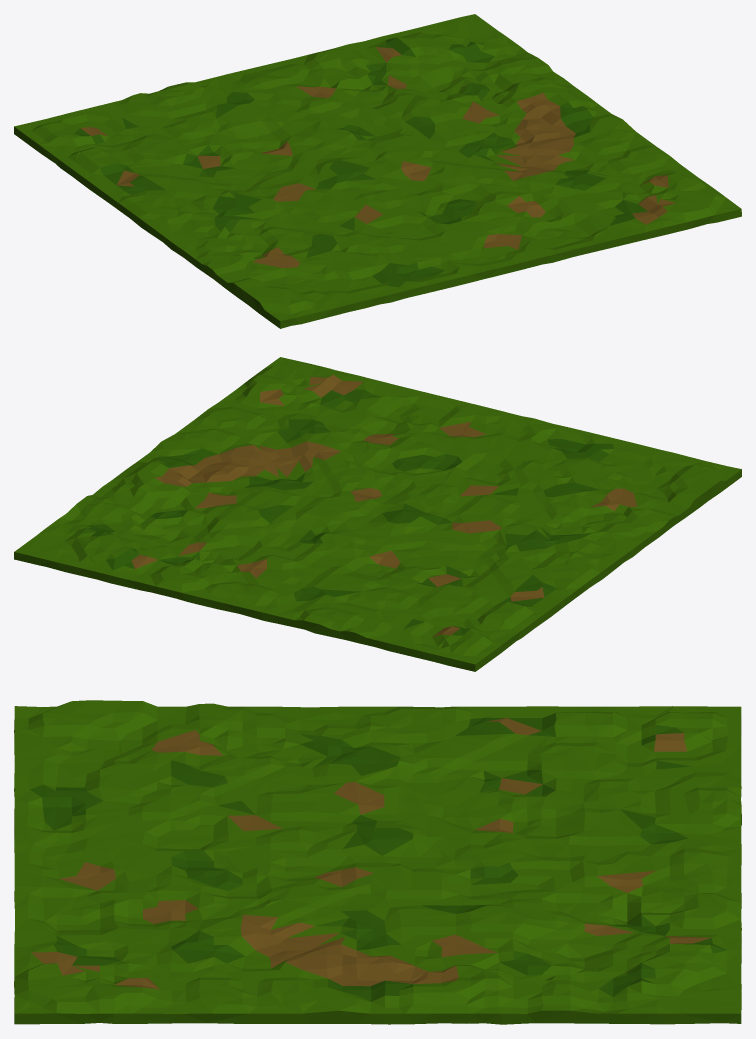
3 views of the same model, one above another, from view 1: azimuth 30°, elevation 25°; view 2: azimuth 150°, elevation 25°; view 3: azimuth 270°, elevation 25° (orthographic). The views are drawn at different scales.
Visible parts, largest first — view 1: Plane; view 2: Plane; view 3: Plane.
Part boxes in pixels (box(x1,y1,x2,y2)): Plane: box(14, 14, 741, 328); Plane: box(14, 357, 741, 671); Plane: box(14, 700, 741, 1024).
Bounding box in the file's own units: 20024 × 678 × 20035.
